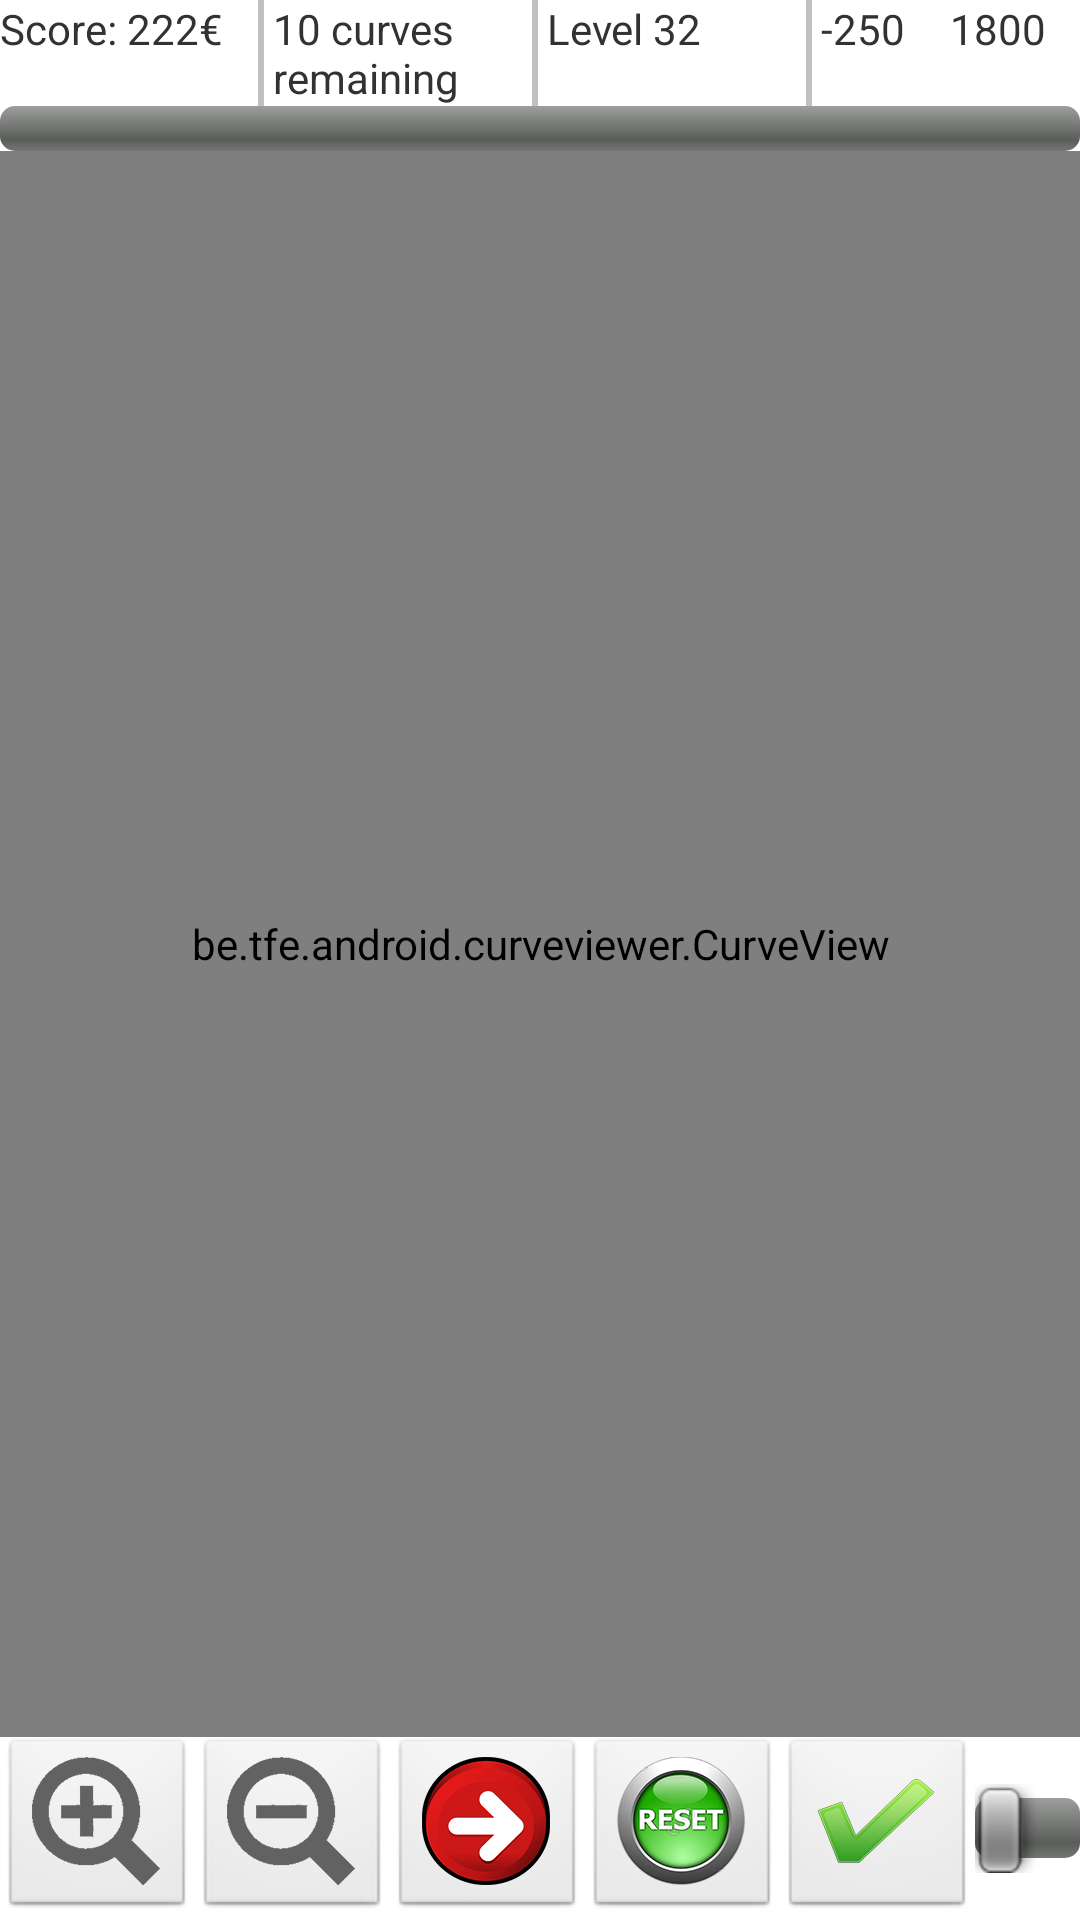

Screen size 1080x1920. Icon name, then its box in pixels as {"left": x1, "top": y1, "right": x2, "bottom": y2}:
skip: {"left": 398, "top": 1739, "right": 576, "bottom": 1908}
valid: {"left": 788, "top": 1739, "right": 966, "bottom": 1908}
zoomin: {"left": 8, "top": 1739, "right": 186, "bottom": 1908}
zoomout: {"left": 203, "top": 1739, "right": 381, "bottom": 1908}
